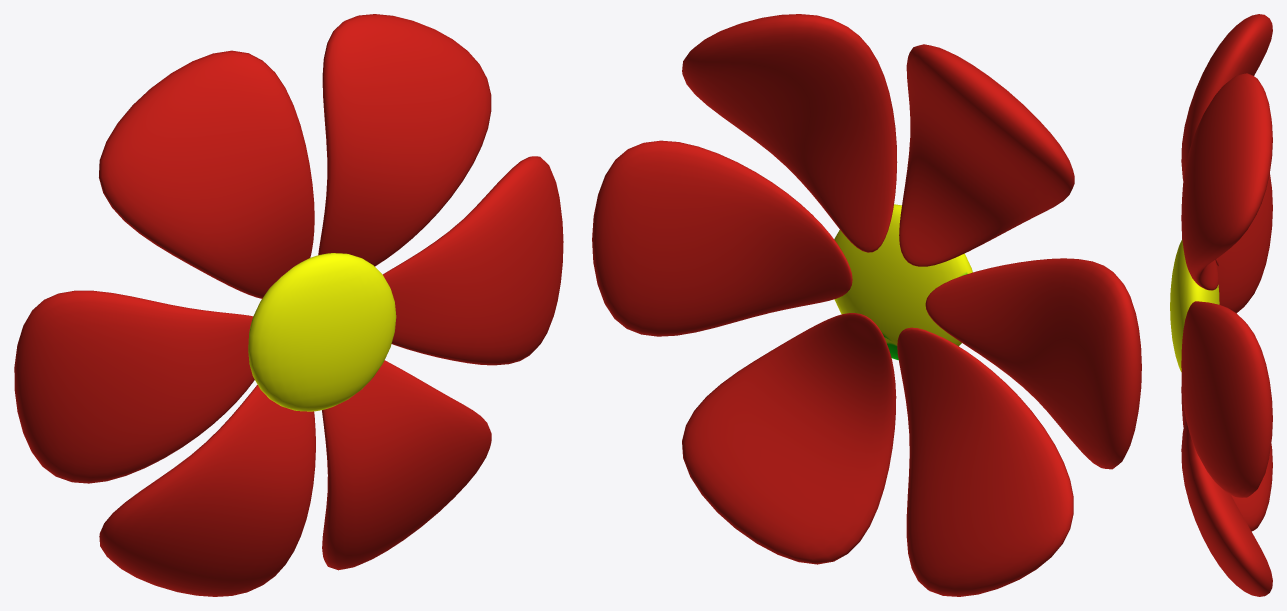
File: Flower.glb
3 views of the same model, side by side, from view 1: azimuth 30°, elevation 25°; view 2: azimuth 150°, elevation 25°; view 3: azimuth 270°, elevation 25° (orthographic). The views are drawn at different scales.
Visible parts, largest first — view 1: Cube.005, Cube.004, Cube, Cube.003, Cube.001, Cube.002, Cylinder; view 2: Cube.002, Cube.001, Cube.003, Cube, Cube.004, Cube.005, Cylinder; view 3: Cube.001, Cube, Cube.002, Cube.005, Cube.004, Cylinder, Cube.003.
Part boxes in pixels (x1,y1,x2,y2): Cube.005: (99, 50, 314, 298); Cube.004: (14, 290, 254, 483); Cube: (318, 14, 491, 266); Cube.003: (99, 385, 315, 596); Cube.001: (382, 156, 563, 365); Cube.002: (322, 360, 491, 570); Cylinder: (248, 253, 396, 411); Cube.002: (682, 313, 896, 564); Cube.001: (592, 140, 852, 336); Cube.003: (897, 327, 1073, 596); Cube: (682, 14, 897, 252); Cube.004: (925, 258, 1141, 469); Cube.005: (899, 44, 1074, 266); Cylinder: (834, 204, 972, 360); Cube.001: (1181, 301, 1272, 497); Cube: (1181, 73, 1272, 290); Cube.002: (1181, 417, 1272, 596); Cube.005: (1181, 14, 1272, 266); Cube.004: (1182, 174, 1272, 313); Cylinder: (1170, 239, 1219, 371); Cube.003: (1181, 379, 1272, 531).
Bounding box in the file's own units: 0.5819 × 0.5578 × 0.1027.
Materials: 2 (2 with a texture image).
